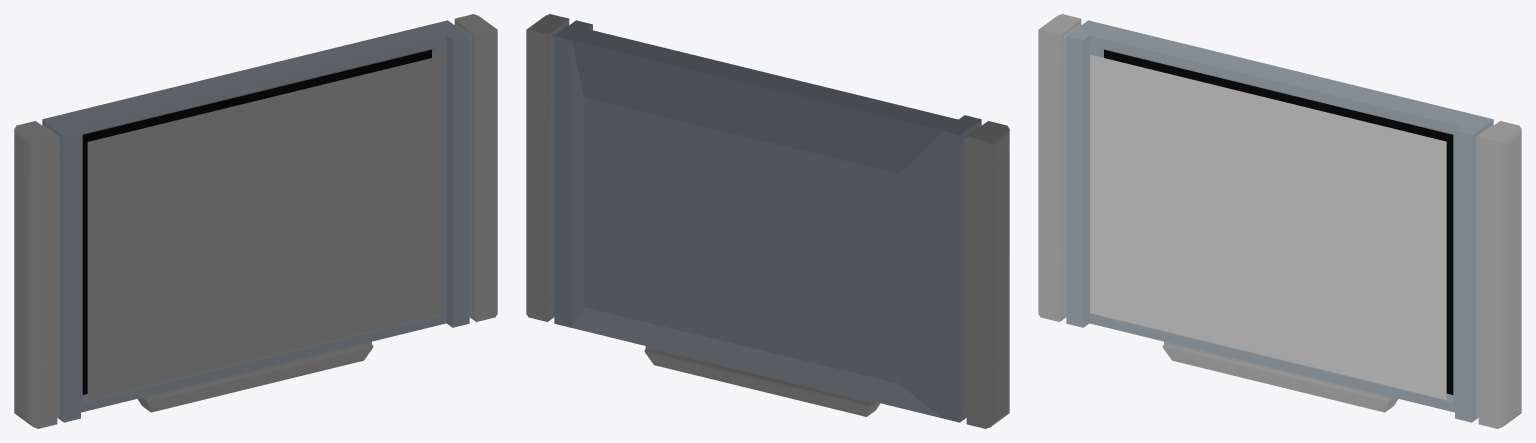
File: Television_0413d599.obj
The picture shows the model from 3 angles, left to right: view 1: azimuth 30°, elevation 25°; view 2: azimuth 150°, elevation 25°; view 3: azimuth 330°, elevation 25°; orthographic projection.
Visible parts, largest first — view 1: DeferredDecalSpawnPlane_c73beab9, mesh_0d2095f3; view 2: mesh_0d2095f3; view 3: DeferredDecalSpawnPlane_c73beab9, mesh_0d2095f3.
Boxes of the visible parts, left/top/right/bottom form: DeferredDecalSpawnPlane_c73beab9: left=87, top=55, right=443, bottom=400; mesh_0d2095f3: left=14, top=14, right=497, bottom=428; mesh_0d2095f3: left=526, top=14, right=1009, bottom=428; DeferredDecalSpawnPlane_c73beab9: left=1090, top=54, right=1446, bottom=399; mesh_0d2095f3: left=1038, top=14, right=1521, bottom=428.
Size of the model in its own units: 0.9811 by 0.6174 by 0.1354.
